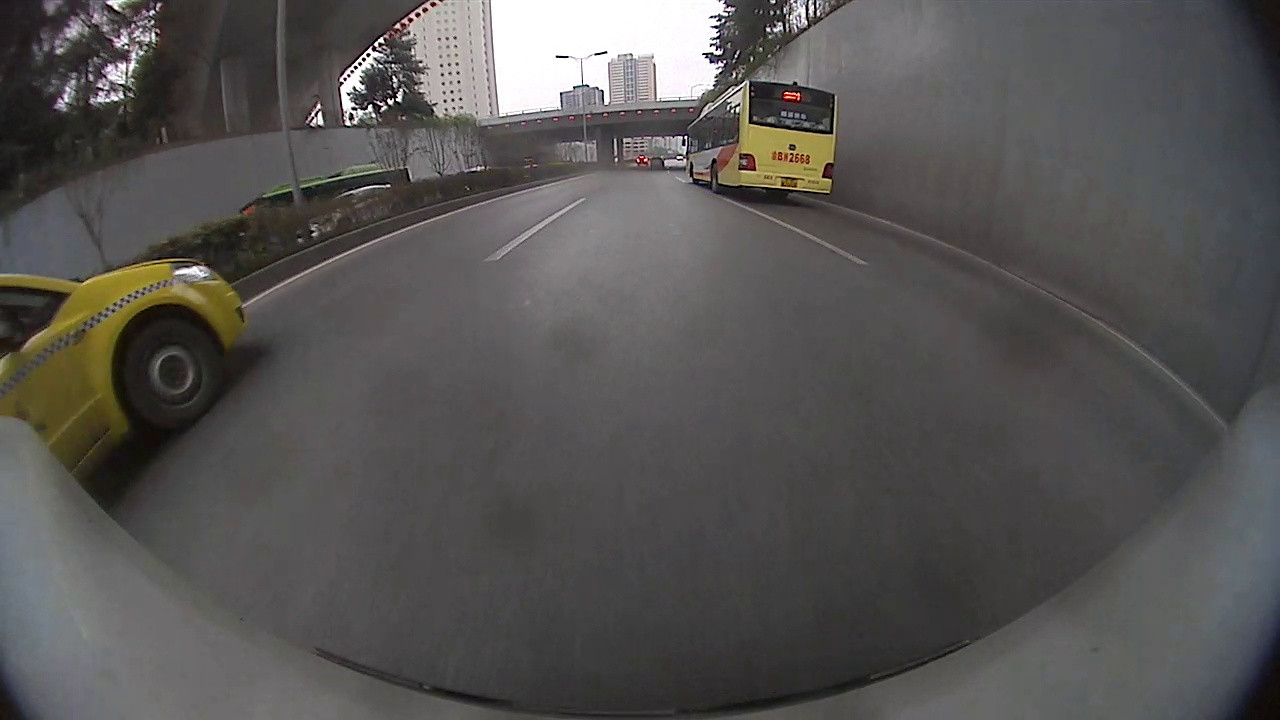bus: (679, 77, 840, 202), (236, 159, 415, 224)
car: (1, 256, 250, 487)
front: (120, 316, 223, 428)
rear: (709, 161, 721, 194)
